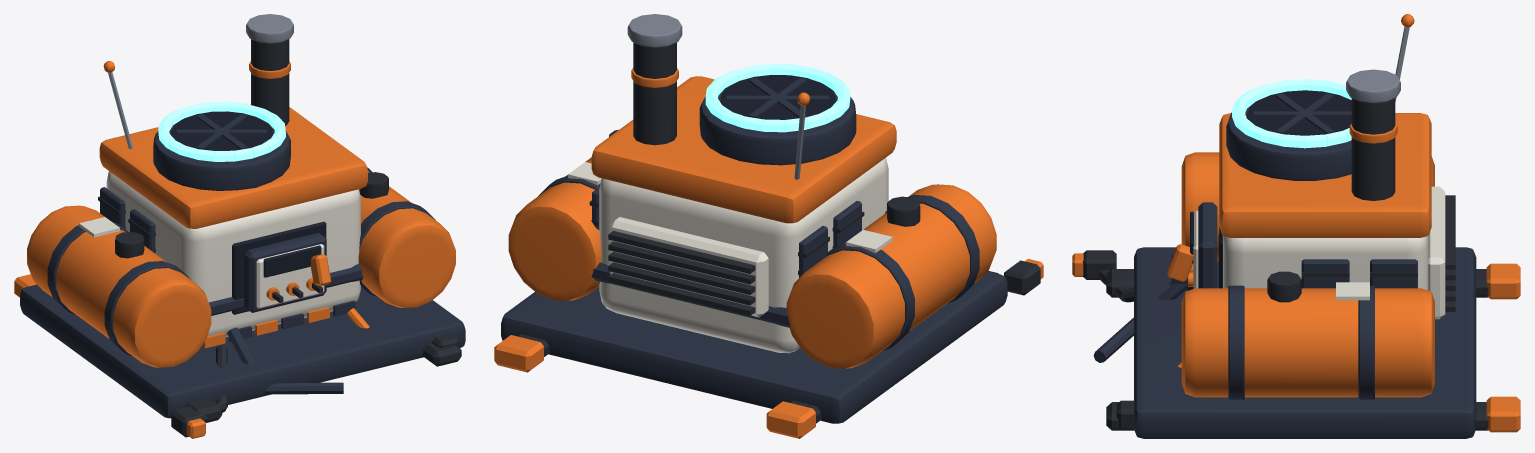
File: generator.fbx
The picture shows the model from 3 angles, left to right: view 1: azimuth 30°, elevation 25°; view 2: azimuth 150°, elevation 25°; view 3: azimuth 270°, elevation 25°; orthographic projection. The views are drawn at different scales.
Parts seen in each view (by area): view 1: Body, Switch, Core; view 2: Body, Core; view 3: Body, Core, Switch.
Part boxes in pixels (<box>): Body: <box>14,14,465,438</box>; Switch: <box>244,232,331,312</box>; Core: <box>158,101,285,161</box>; Body: <box>494,14,1043,438</box>; Core: <box>705,63,850,132</box>; Body: <box>1072,14,1520,438</box>; Core: <box>1232,79,1351,148</box>; Switch: <box>1167,202,1217,288</box>.
Size of the model in its own units: 6.35 by 5 by 6.55.
2 materials, 1 textured.
